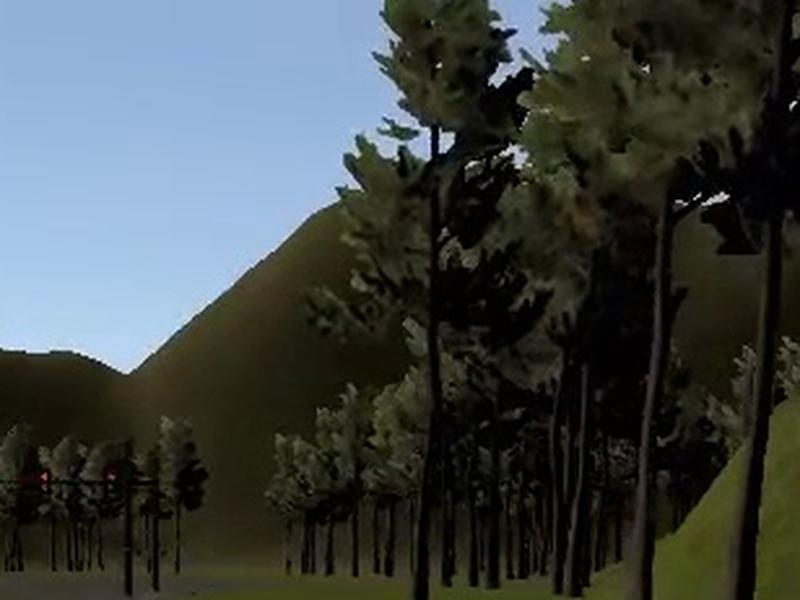Red: (36, 466, 49, 505)
